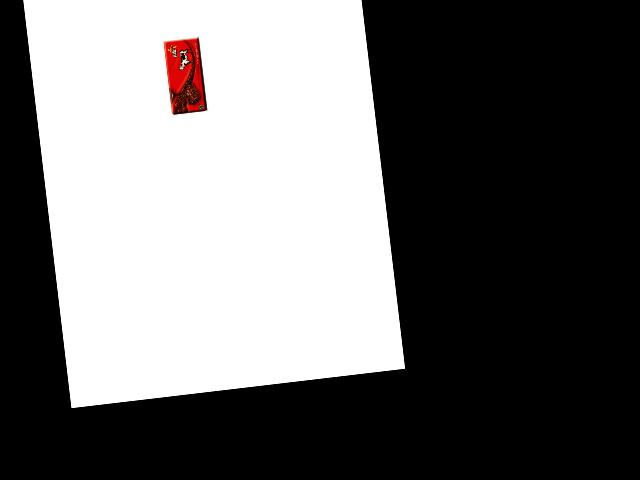chocolate: (161, 34, 211, 116)
